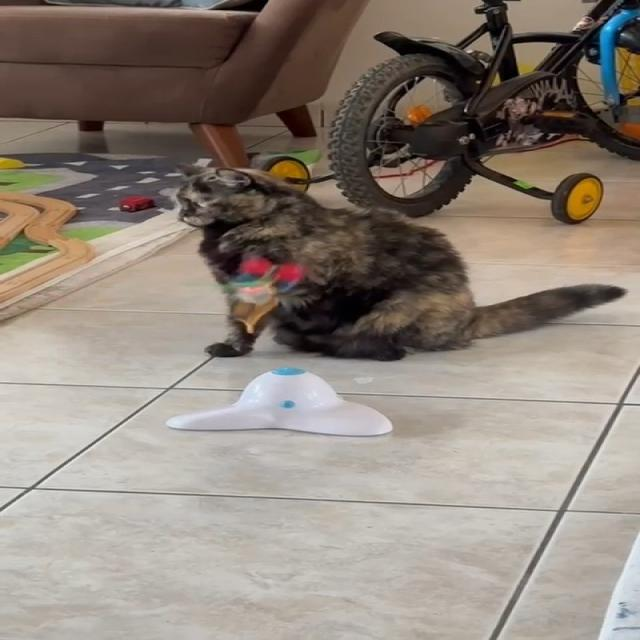authorized: (170, 162, 626, 362)
